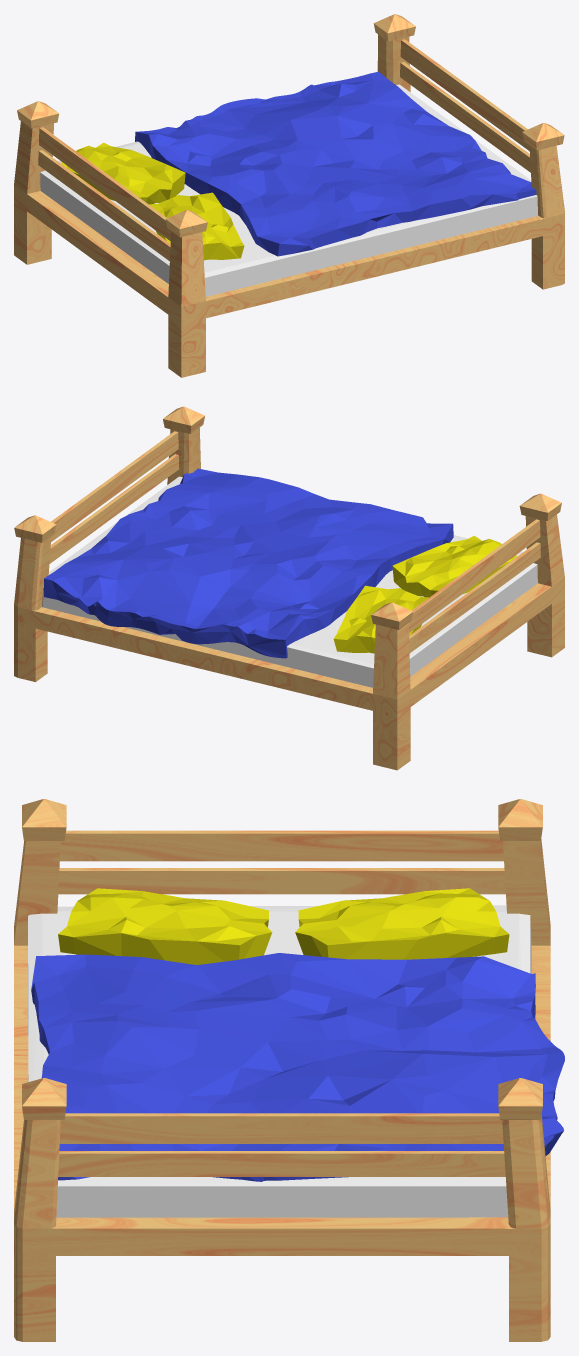
Rendered from bed.fbx.
3 renders of one model, top to bottom at view 1: azimuth 30°, elevation 25°; view 2: azimuth 150°, elevation 25°; view 3: azimuth 270°, elevation 25°, orthographic. The views are drawn at different scales.
Visible parts, largest first — view 1: Blanket, bedframe, Cube, Pillows; view 2: Blanket, bedframe, Cube, Pillows; view 3: bedframe, Blanket, Pillows, Cube.
Boxes of the visible parts, bbox=[...] form: Blanket: bbox=[135, 71, 536, 256]; bedframe: bbox=[14, 14, 564, 377]; Cube: bbox=[40, 84, 537, 296]; Pillows: bbox=[61, 142, 244, 260]; Blanket: bbox=[44, 468, 453, 658]; bedframe: bbox=[14, 406, 564, 770]; Cube: bbox=[42, 476, 537, 687]; Pillows: bbox=[333, 535, 517, 653]; bedframe: bbox=[14, 799, 550, 1341]; Blanket: bbox=[31, 953, 564, 1181]; Pillows: bbox=[58, 888, 509, 964]; Cube: bbox=[28, 905, 531, 1217].
Bounding box in the file's own units: 1611 × 627 × 1242.
